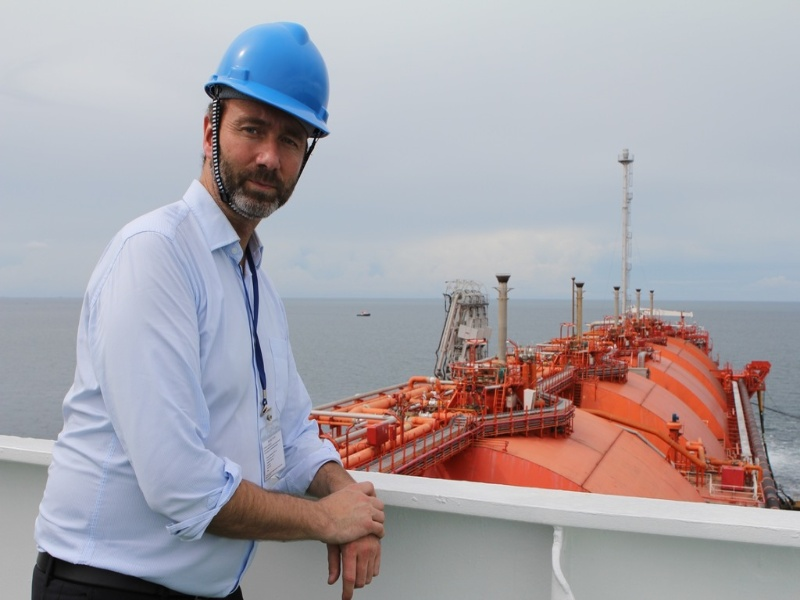Baret: (211, 20, 341, 126)
